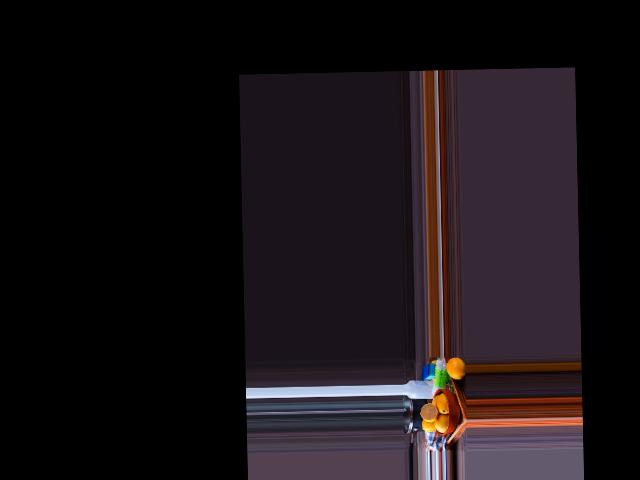lemon: (446, 357, 466, 380)
